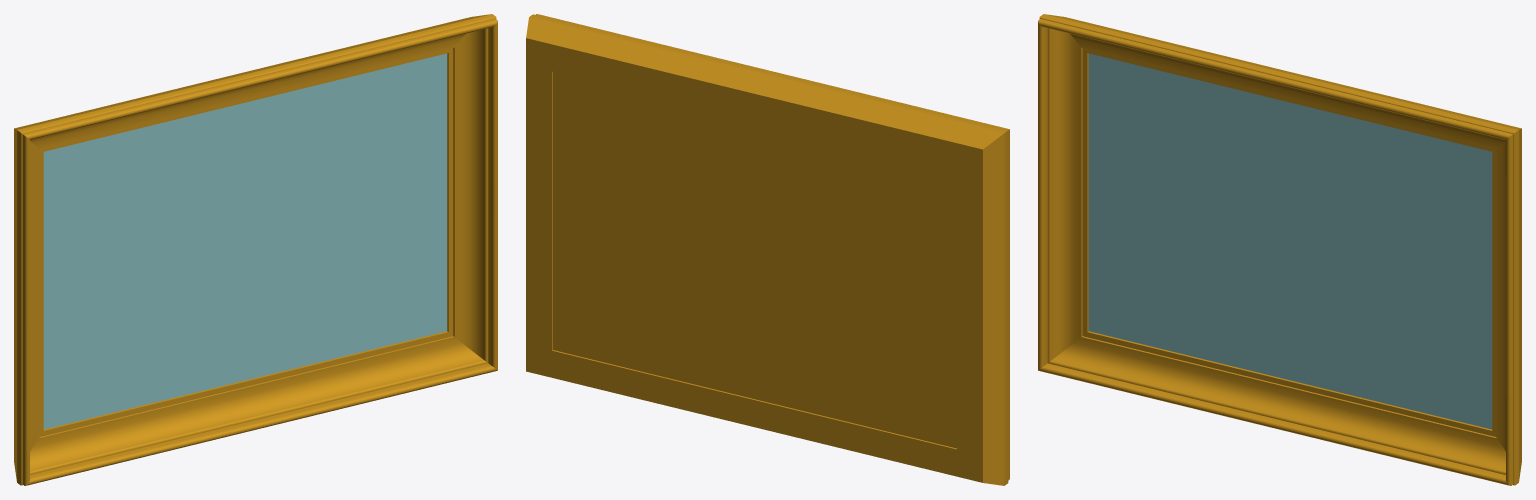
Rendered from Painting_H_3.fbx.
3 renders of one model, left to right at view 1: azimuth 30°, elevation 25°; view 2: azimuth 150°, elevation 25°; view 3: azimuth 330°, elevation 25°, orthographic.
Parts seen in each view (by area): view 1: SM_Painting_H_3; view 2: SM_Painting_H_3; view 3: SM_Painting_H_3.
Boxes of the visible parts, left/top/right/bottom form: SM_Painting_H_3: left=14, top=14, right=497, bottom=485; SM_Painting_H_3: left=526, top=14, right=1009, bottom=485; SM_Painting_H_3: left=1038, top=14, right=1521, bottom=485.
Size of the model in its own units: 338 by 239 by 24.38.
